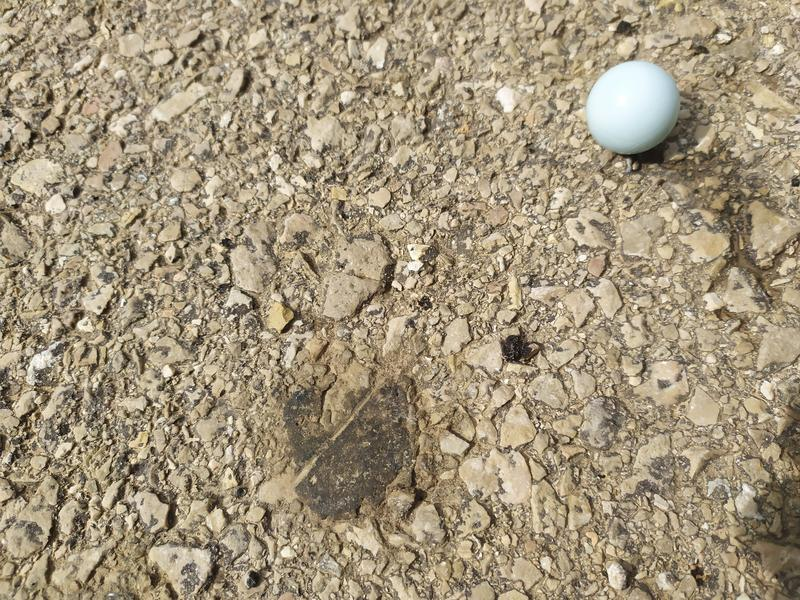Warning: (583, 58, 684, 157)
